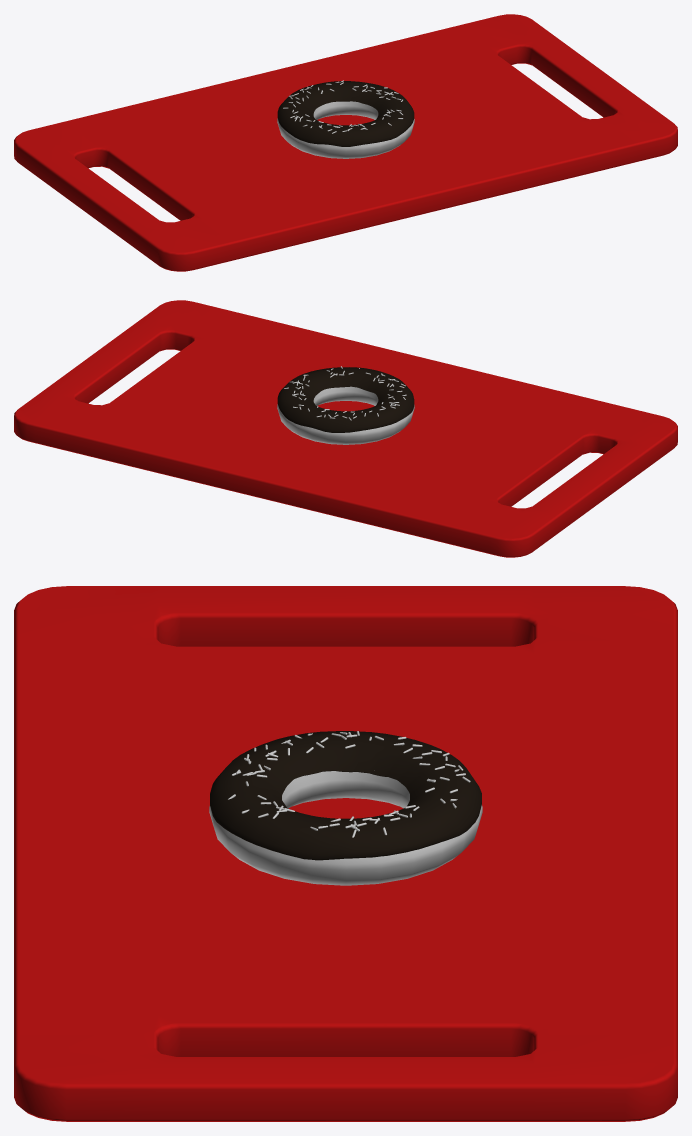
File: Cutting board.FBX
3 renders of one model, top to bottom at view 1: azimuth 30°, elevation 25°; view 2: azimuth 150°, elevation 25°; view 3: azimuth 270°, elevation 25°, orthographic. The views are drawn at different scales.
Visible parts, largest first — view 1: Cutting board, Donut.009; view 2: Cutting board, Donut.009; view 3: Cutting board, Donut.009.
Boxes of the visible parts, bbox=[...] form: Cutting board: bbox=[14, 14, 677, 271]; Donut.009: bbox=[277, 80, 414, 158]; Cutting board: bbox=[14, 300, 677, 557]; Donut.009: bbox=[277, 366, 414, 444]; Cutting board: bbox=[14, 586, 677, 1121]; Donut.009: bbox=[209, 731, 482, 885].
Bounding box in the file's own units: 70.91 × 6.2 × 39.7.
